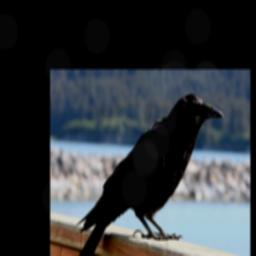Crow: (75, 92, 224, 256)
